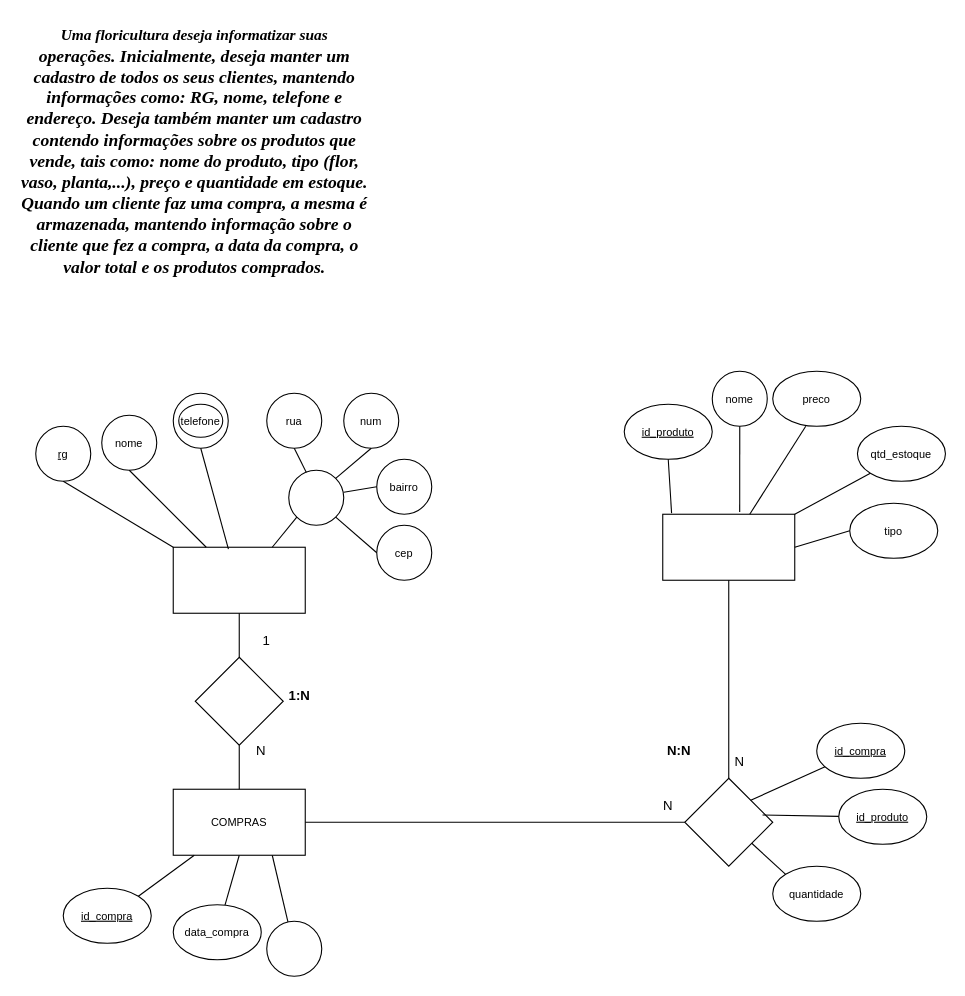
The diagram is 965 pixels wide and 996 high, and some of its shapes have lost their labels. Here are the shapes that lost their labels. From the top down, the centre of each, then its label:
the point at 316,497: endereco
the point at 728,546: PRODUTOS
the point at 238,579: CLIENTES
the point at 238,700: FAZ
the point at 728,821: CONTEM
the point at 294,948: valor_total
